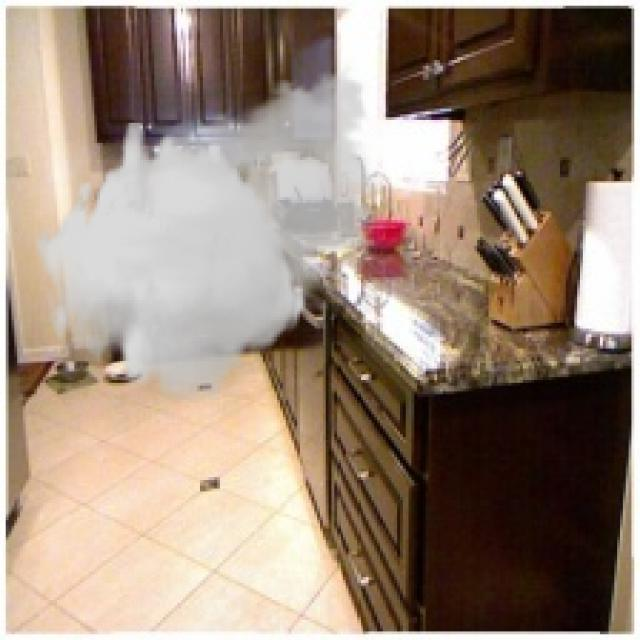Smoke: (34, 57, 389, 403)
